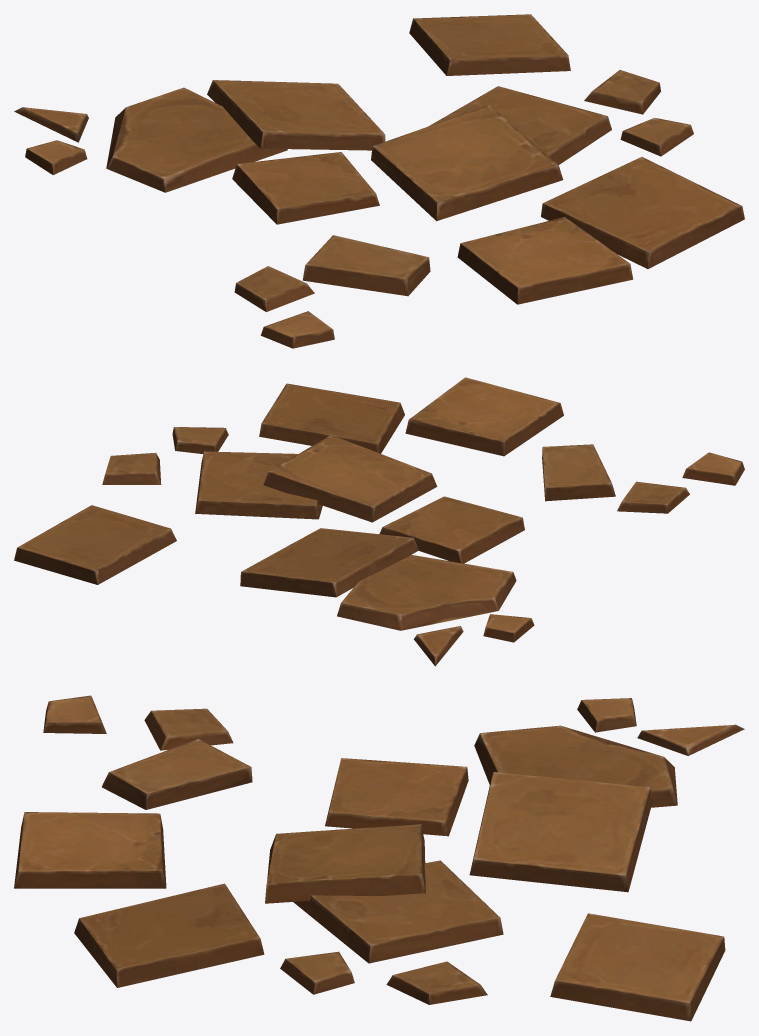
The model's file is shakian_rubble_bricktile01_01.FBX.
3 renders of one model, top to bottom at view 1: azimuth 30°, elevation 25°; view 2: azimuth 150°, elevation 25°; view 3: azimuth 270°, elevation 25°, orthographic. The views are drawn at different scales.
Visible parts, largest first — view 1: shakian_rubble_bricktile01_01; view 2: shakian_rubble_bricktile01_01; view 3: shakian_rubble_bricktile01_01.
Part boxes in pixels (left/top/right/bottom): shakian_rubble_bricktile01_01: left=14, top=14, right=744, bottom=348; shakian_rubble_bricktile01_01: left=14, top=377, right=744, bottom=666; shakian_rubble_bricktile01_01: left=14, top=695, right=744, bottom=1021.
Size of the model in its own units: 5.28 by 0.4699 by 5.43.
